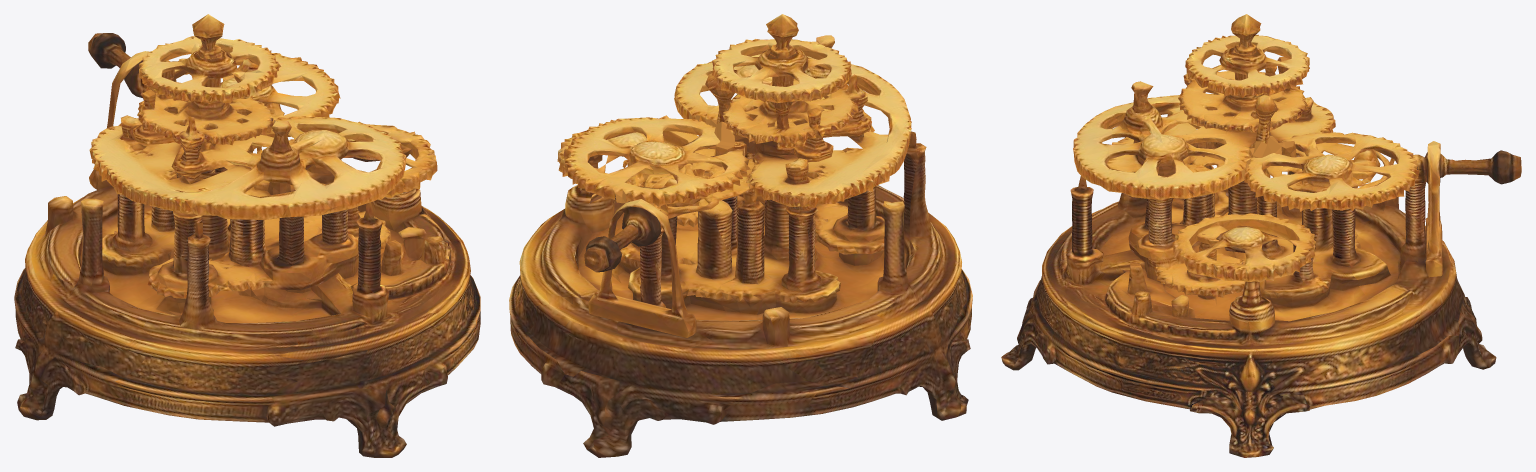
3 views of the same model, side by side, from view 1: azimuth 30°, elevation 25°; view 2: azimuth 150°, elevation 25°; view 3: azimuth 270°, elevation 25° (orthographic). The views are drawn at different scales.
Parts seen in each view (by area): view 1: body, body.003, body.002, rotation_part_01; view 2: body, body.002, body.003, rotation_part_01; view 3: body, body.002, rotation_part_01, body.003.
Boxes of the visible parts, bbox=[...] form: body: bbox=[14, 14, 480, 457]; body.003: bbox=[139, 36, 278, 102]; body.002: bbox=[146, 50, 340, 118]; rotation_part_01: bbox=[290, 121, 437, 199]; body: bbox=[509, 14, 972, 457]; body.002: bbox=[563, 115, 750, 206]; body.003: bbox=[712, 39, 851, 103]; rotation_part_01: bbox=[557, 120, 708, 185]; body: bbox=[1001, 14, 1521, 457]; body.002: bbox=[1244, 132, 1419, 211]; rotation_part_01: bbox=[1172, 213, 1315, 282]; body.003: bbox=[1185, 34, 1309, 97].
Bounding box in the file's own units: 0.4099 × 0.3128 × 0.4485.
1 material, 1 textured.
